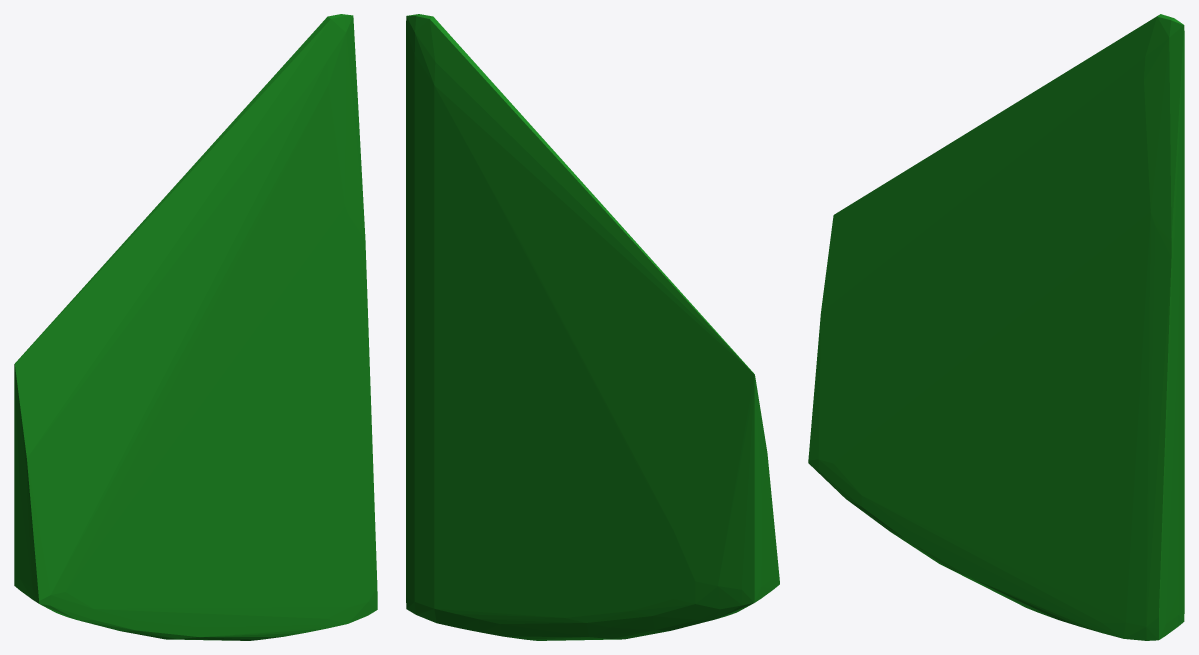
The model's file is right_forearm_0_part_8.obj.
The picture shows the model from 3 angles, left to right: view 1: azimuth 30°, elevation 25°; view 2: azimuth 150°, elevation 25°; view 3: azimuth 330°, elevation 25°; orthographic projection. The views are drawn at different scales.
Bounding box in the file's own units: 36.16 × 60.06 × 5.79.
